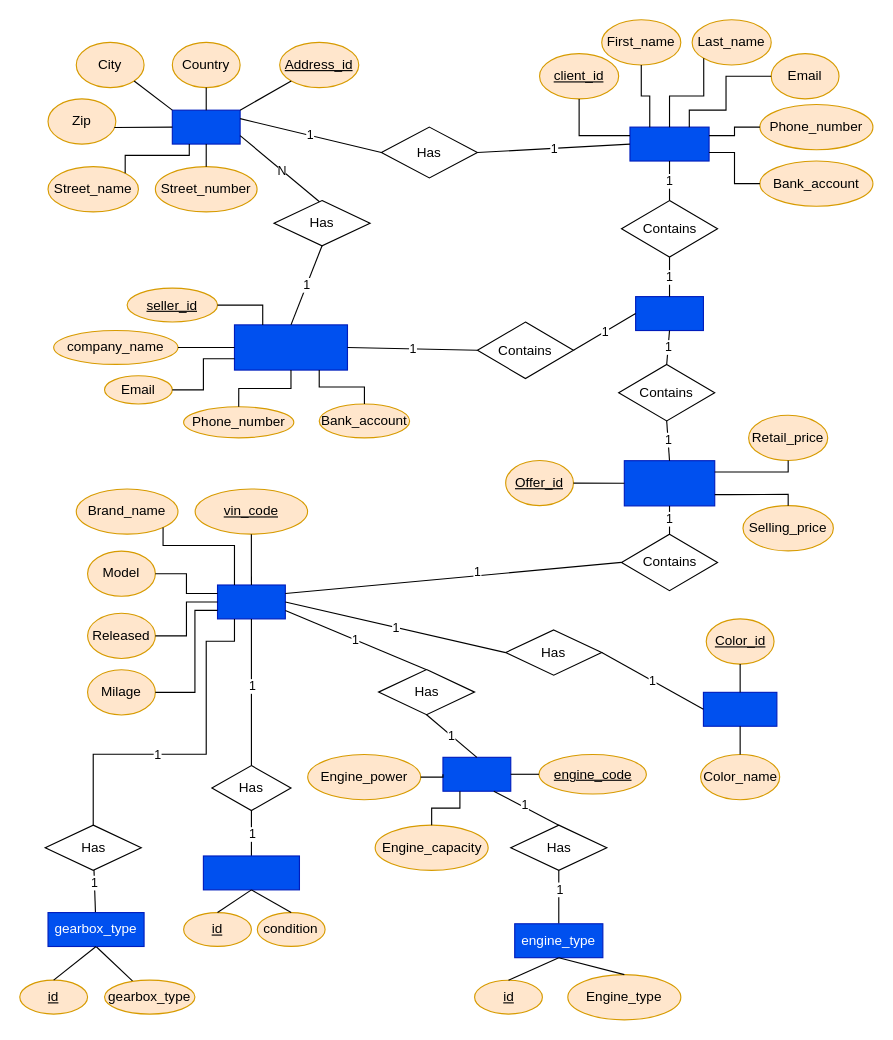
Image size: 893x1040. Some labels were removed from this diagram. Here are the shapes that lost their labels. From the top down, the centre of each, then its label:
At (x=205, y=126): "Address".
At (x=669, y=143): "Clients".
At (x=668, y=313): "Orders".
At (x=290, y=347): "SellerCompany".
At (x=669, y=483): "VehicleOffers".
At (x=250, y=601): "Vehicles".
At (x=739, y=708): "Color".
At (x=476, y=773): "Engine".
At (x=250, y=872): "car_condition".
